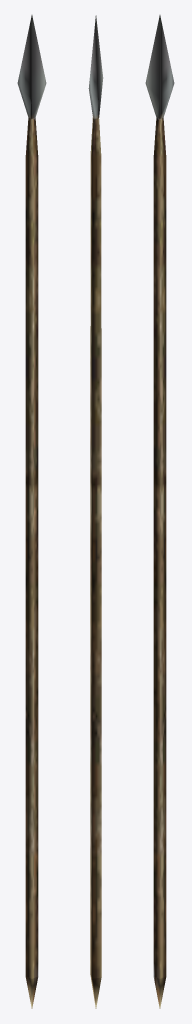
Rendered from sarissa_b.dae.
3 renders of one model, left to right at view 1: azimuth 90°, elevation 25°; view 2: azimuth 150°, elevation 25°; view 3: azimuth 270°, elevation 25°, orthographic.
Parts seen in each view (by area): view 1: lspear04-Pivot; view 2: lspear04-Pivot; view 3: lspear04-Pivot.
Boxes of the visible parts, x1,y1,x2,y2 form: lspear04-Pivot: (17, 15, 46, 1008); lspear04-Pivot: (88, 15, 103, 1008); lspear04-Pivot: (145, 15, 174, 1008).
Size of the model in its own units: 0.0988 by 0.2223 by 8.44.
